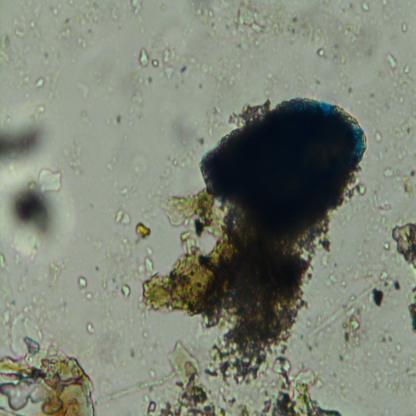Background material: (142, 212, 336, 367), (126, 343, 332, 414), (193, 1, 382, 64), (0, 313, 96, 415), (290, 269, 402, 352), (0, 168, 72, 254), (143, 124, 198, 198), (52, 0, 142, 43), (107, 88, 144, 173), (0, 116, 52, 170), (0, 9, 38, 82), (0, 255, 45, 310), (165, 192, 223, 233), (184, 53, 244, 86), (103, 236, 136, 292), (382, 54, 414, 108), (381, 158, 416, 198), (358, 238, 399, 272), (54, 132, 86, 173), (392, 223, 416, 272), (139, 50, 175, 80), (369, 189, 393, 218), (137, 246, 157, 280), (402, 283, 416, 330), (41, 256, 70, 278), (333, 384, 358, 405), (78, 278, 92, 301), (134, 222, 150, 242), (113, 210, 131, 227), (74, 79, 89, 97), (398, 17, 412, 36), (120, 283, 131, 299), (86, 321, 96, 336), (36, 99, 44, 117), (373, 129, 382, 144), (35, 77, 44, 87)
Fragment: (198, 97, 368, 209)
